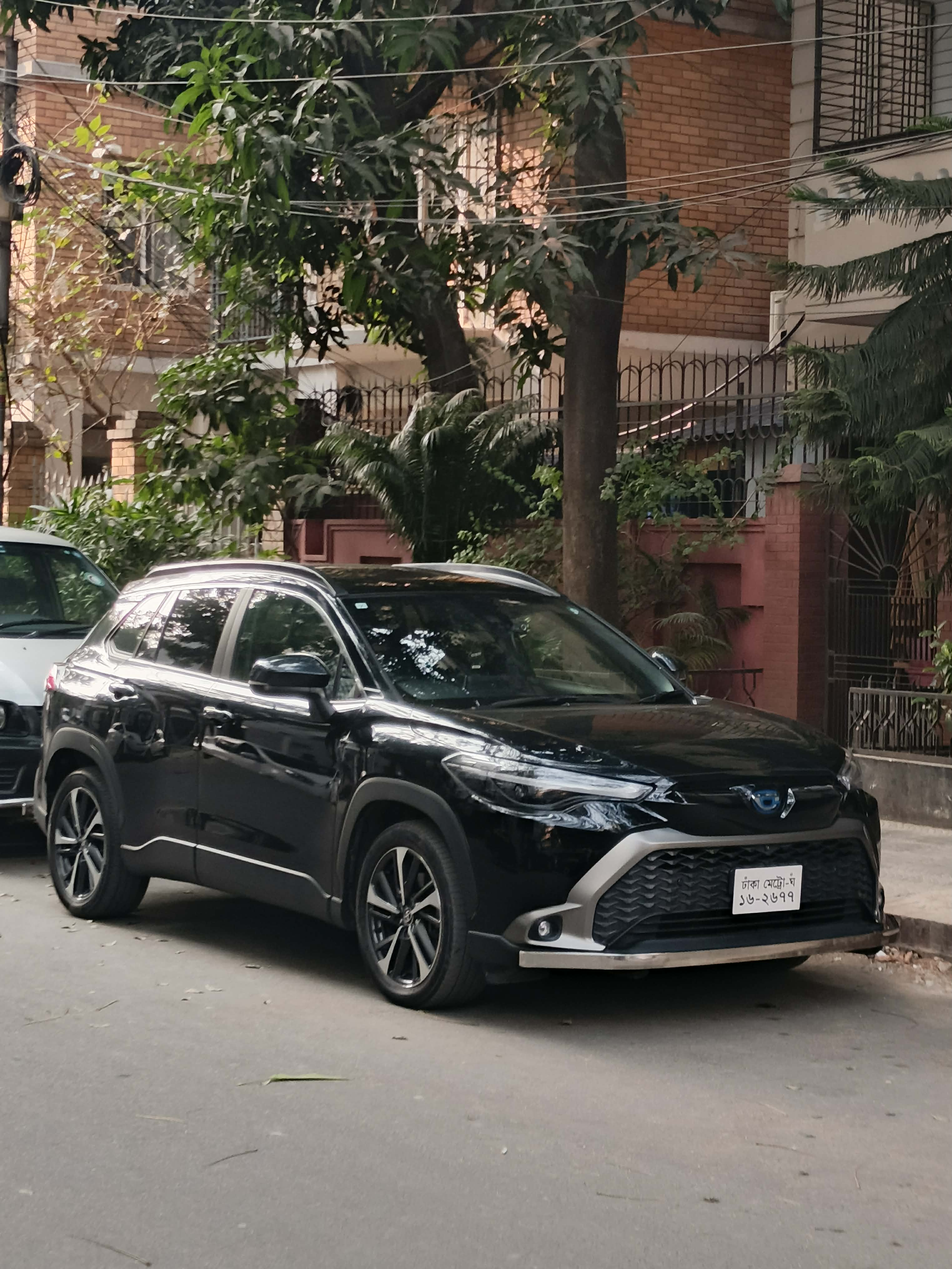private car: (50, 525, 927, 1174), (3, 497, 202, 970)
